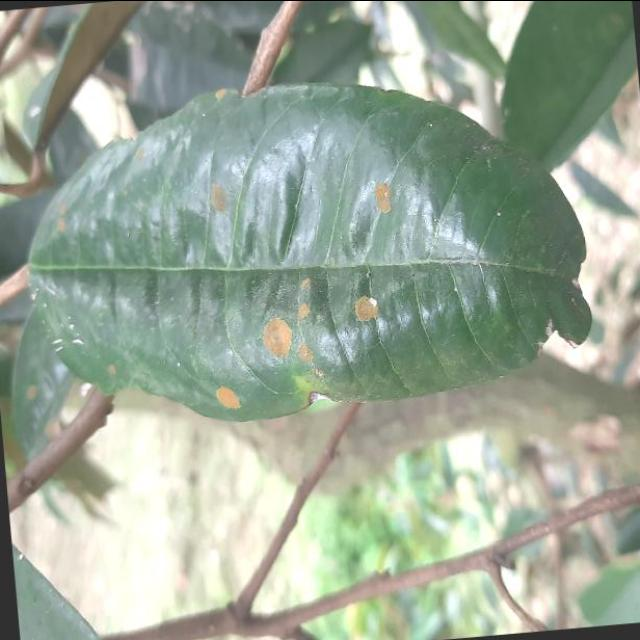Algal Leaf Spot: (7, 51, 613, 448)
